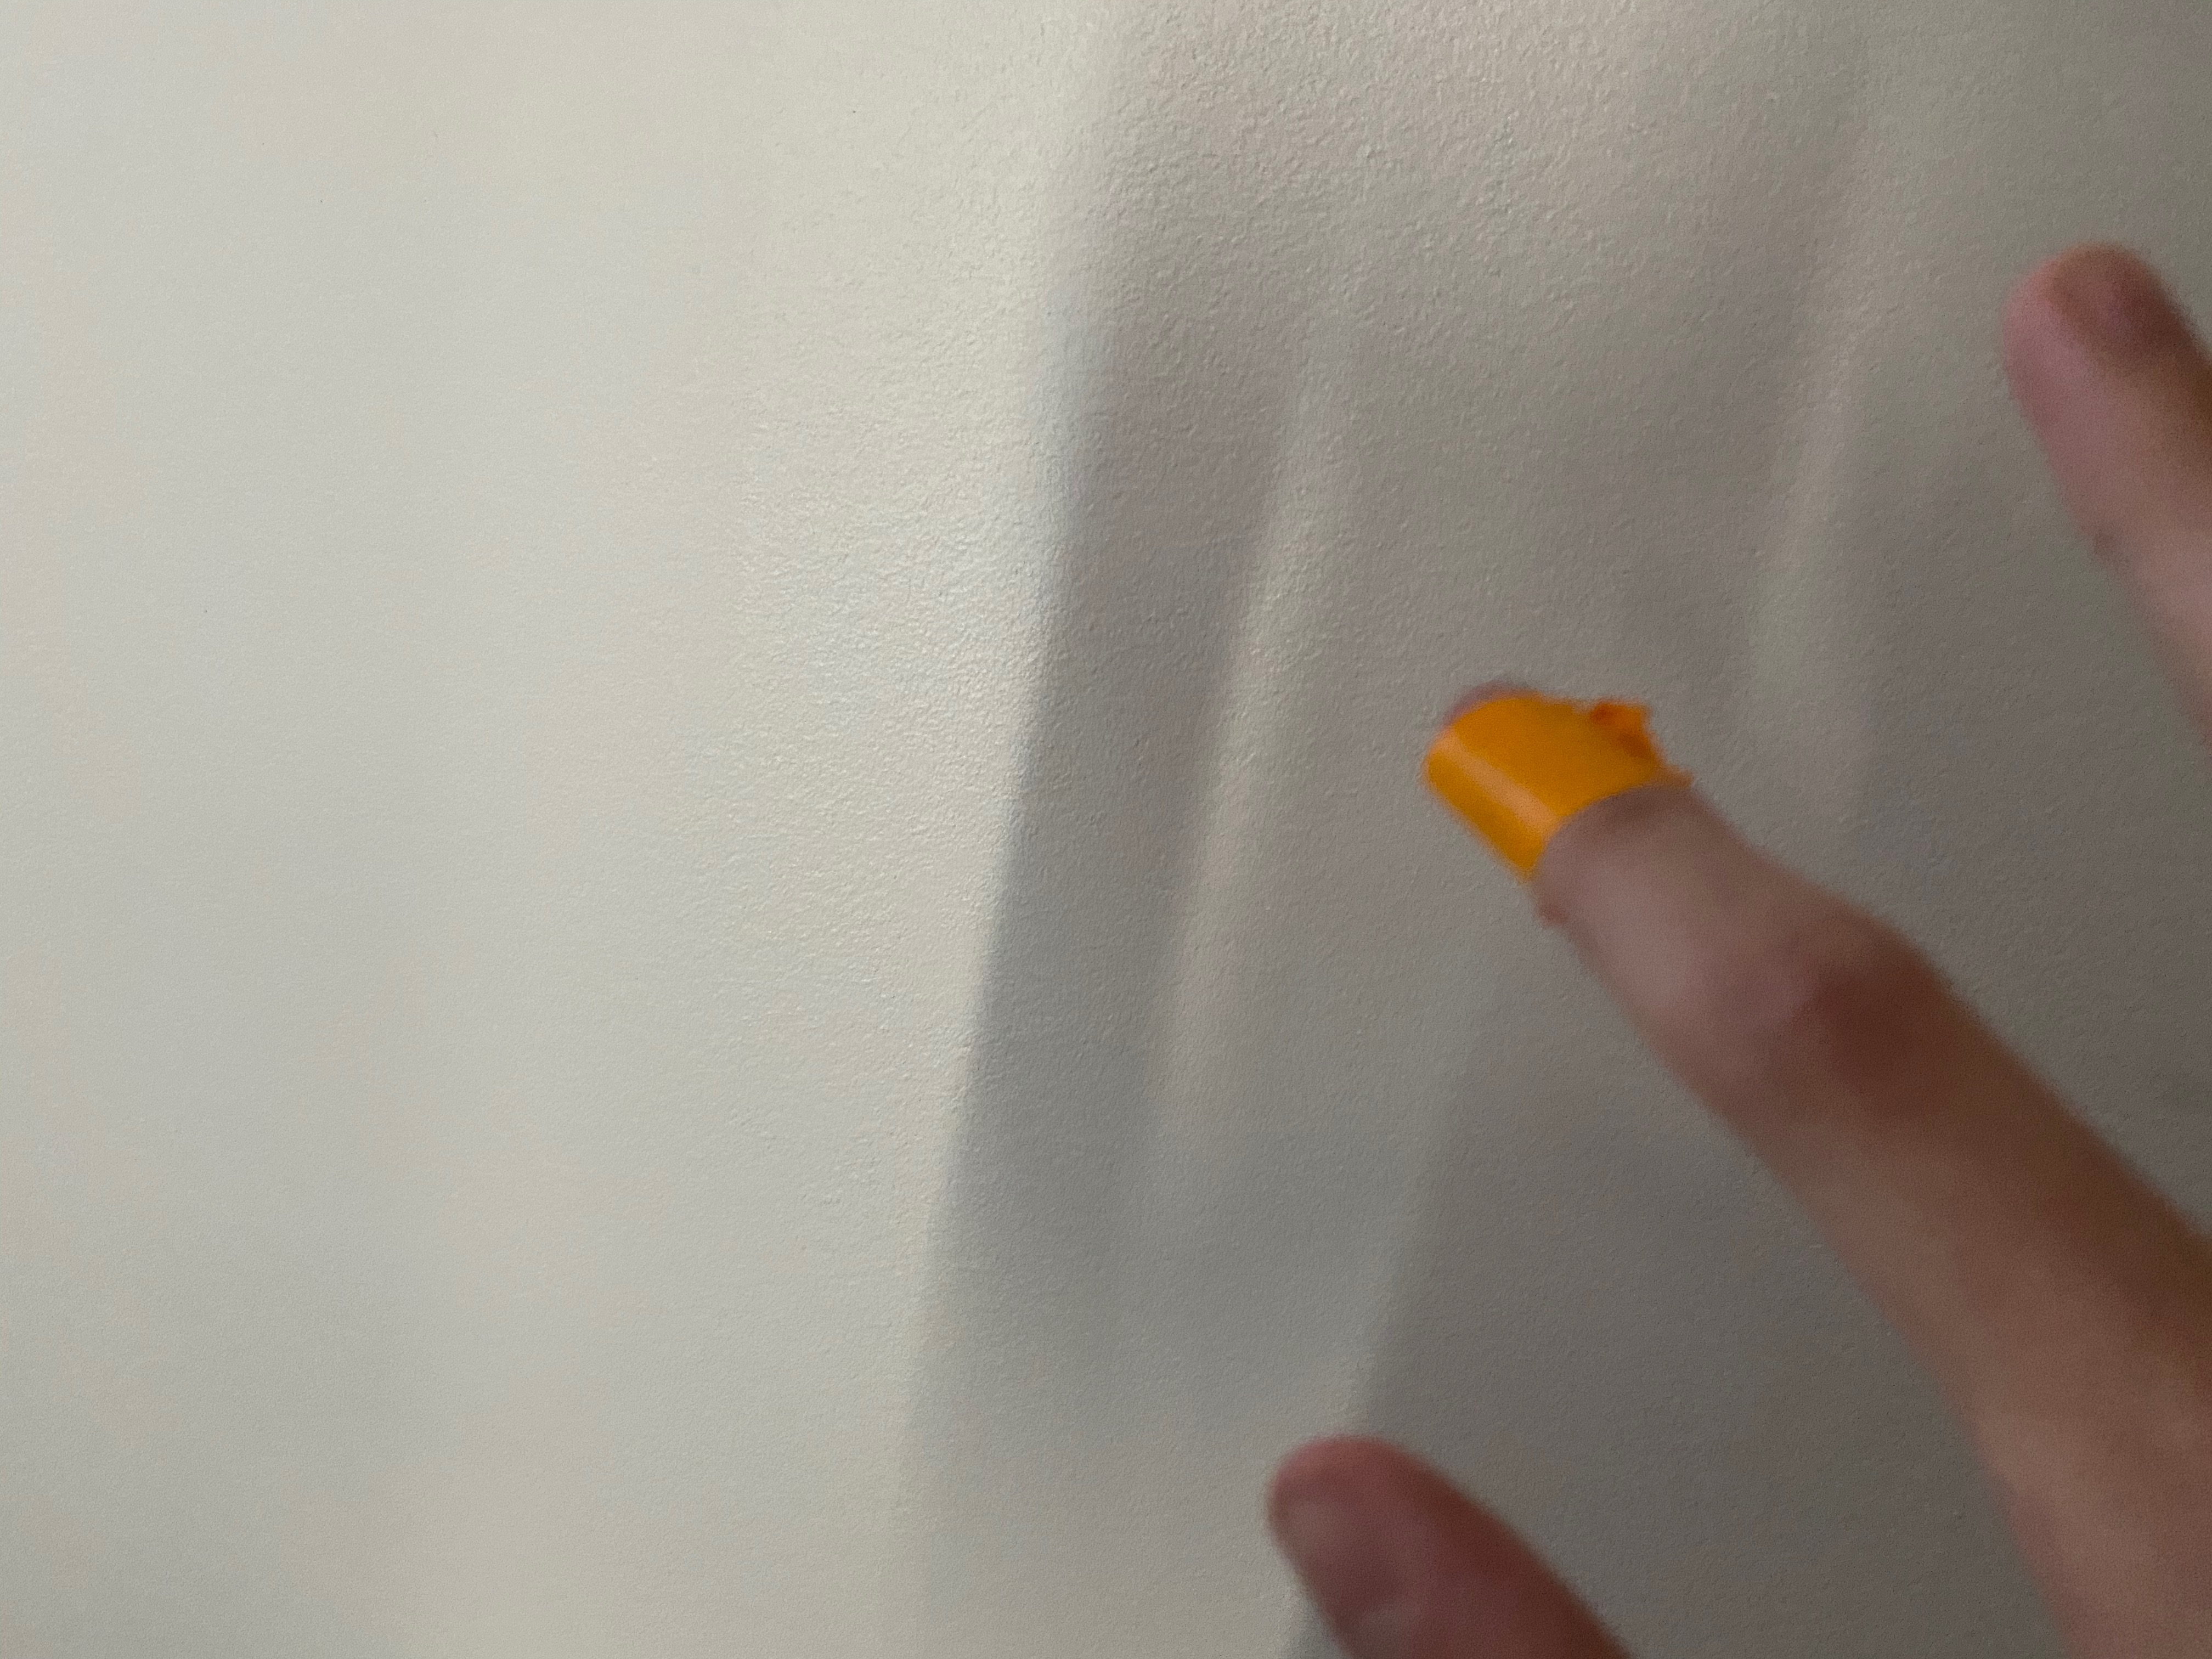fingertip: (1399, 667, 1674, 911)
